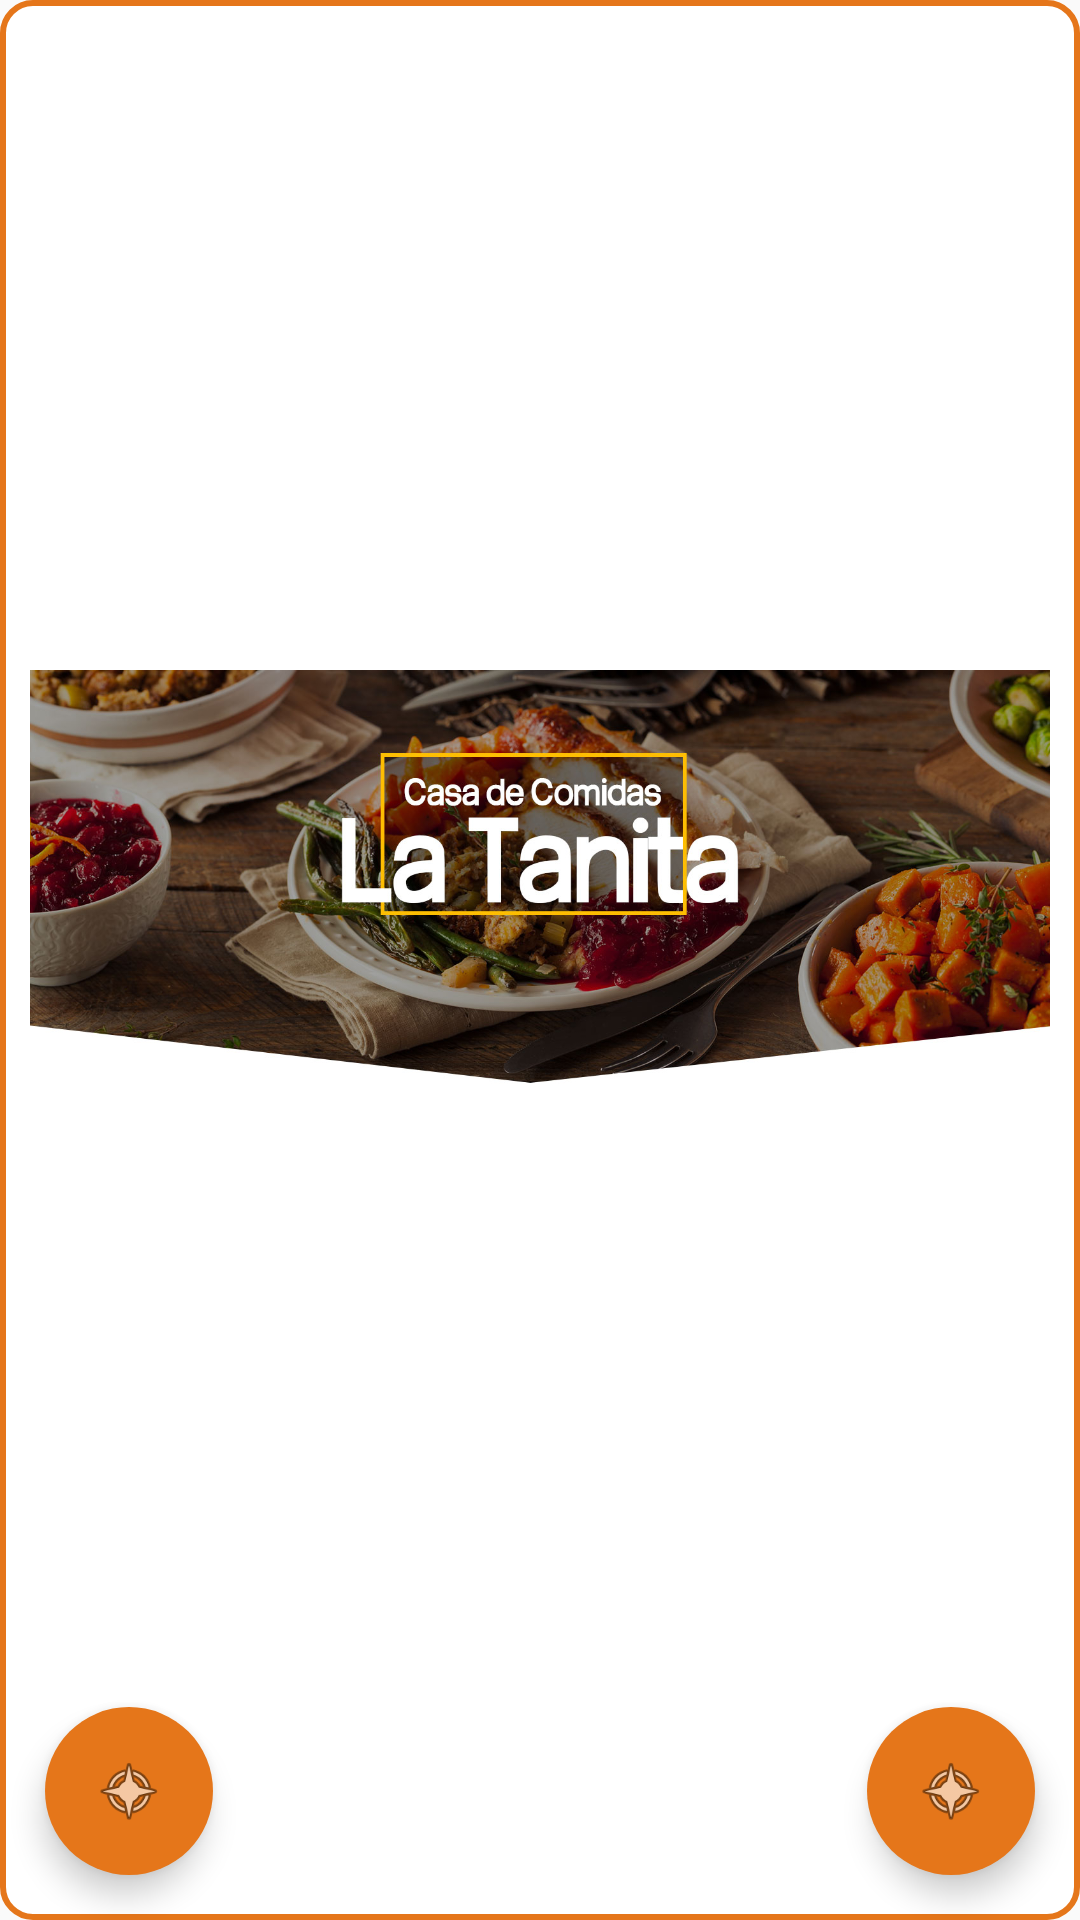

Named icons in this screenshot (1080x1920) and their centers, [x,y]:
compass: [129,1791], [951,1791]
